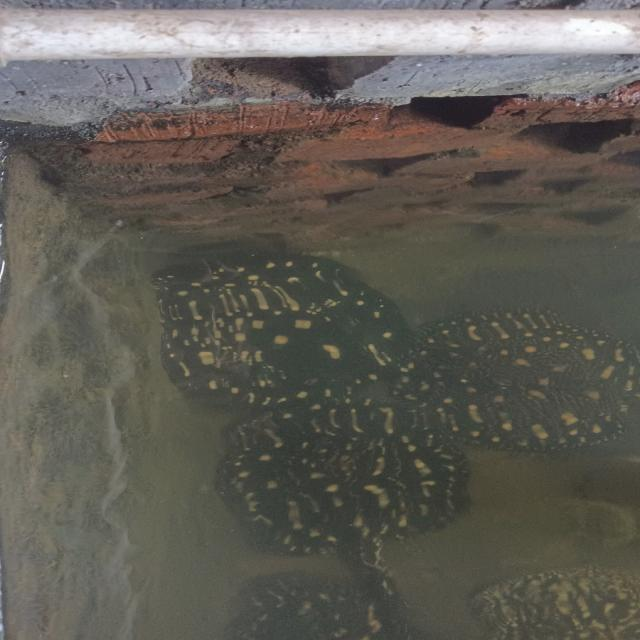black-diamond-sting-ray: (210, 391, 472, 630), (143, 220, 448, 406), (395, 292, 640, 466)
